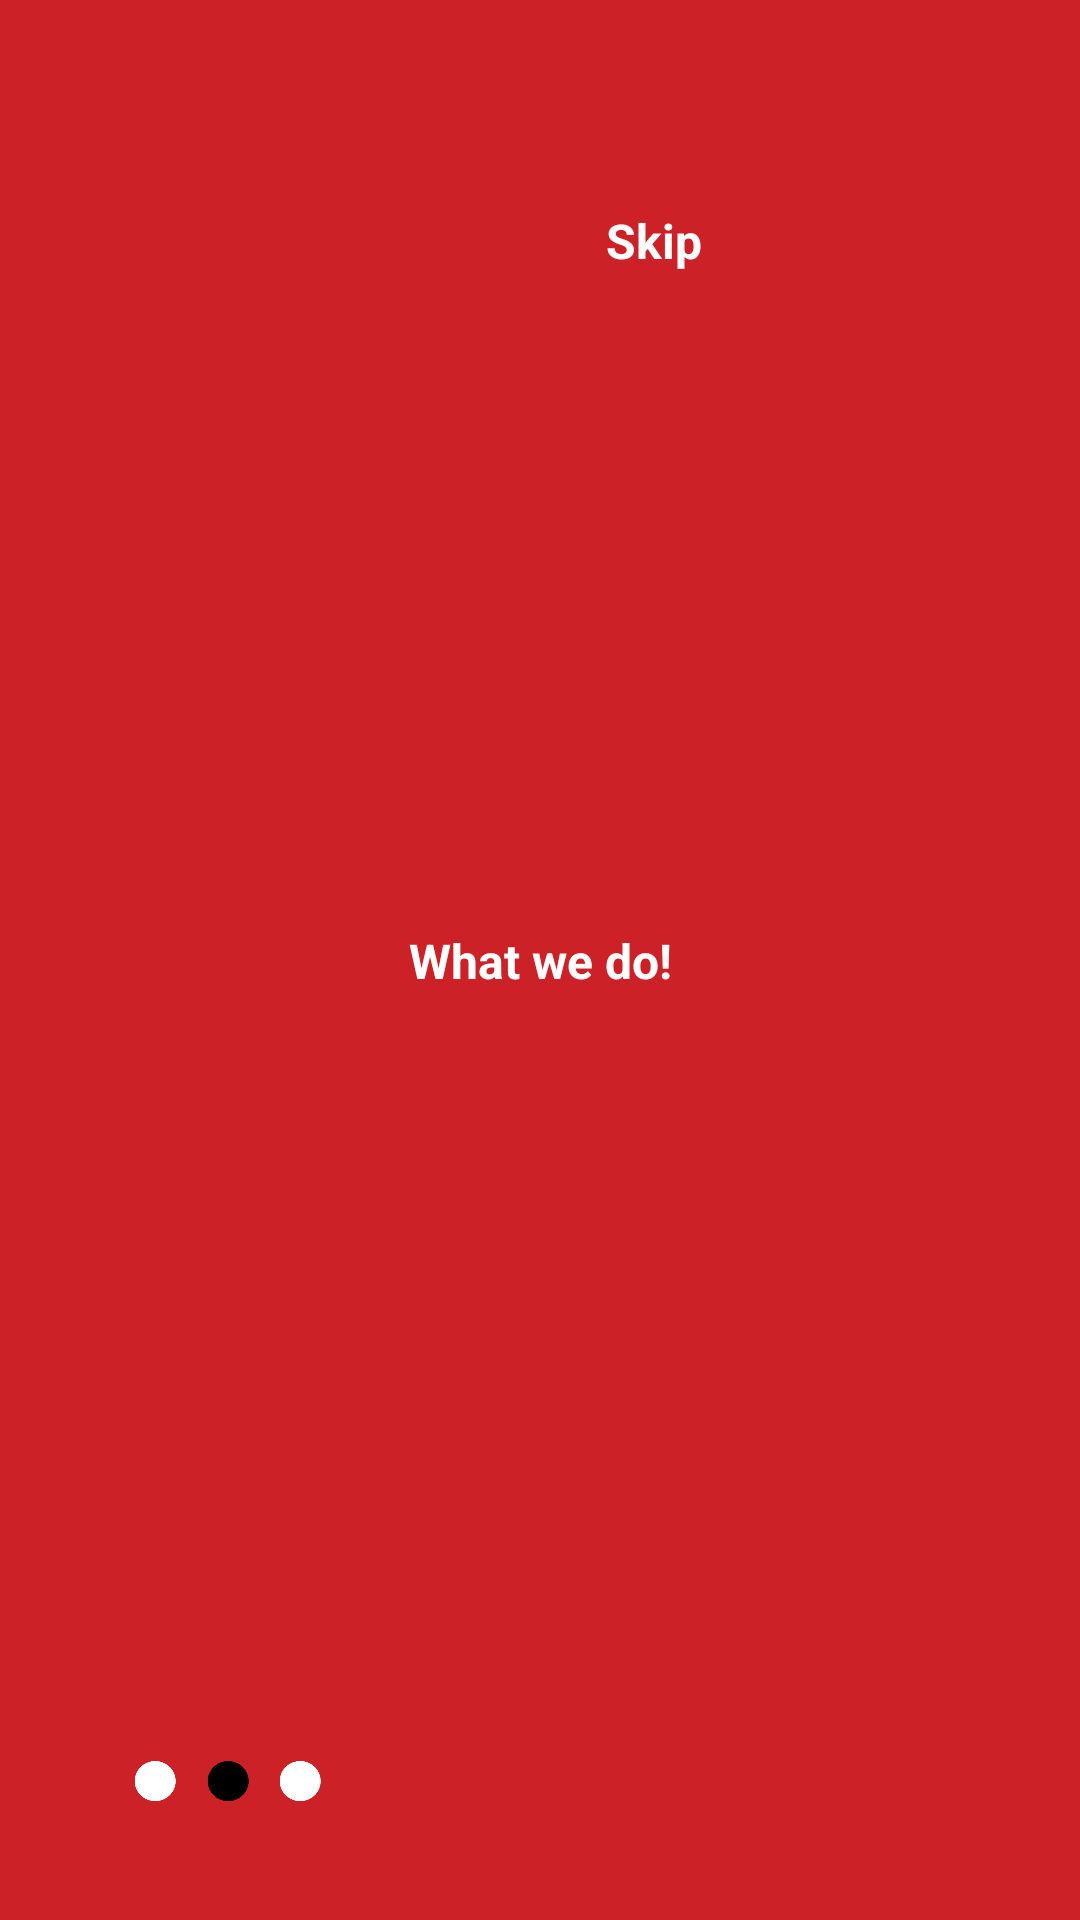

Screen size 1080×1920. Icon name, then its box in pixels as region(x1, y1, x2, y2):
tab: region(135, 1761, 321, 1801)
